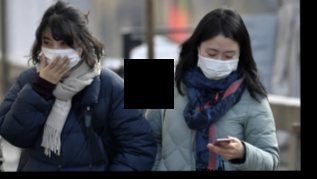with_mask: (39, 34, 81, 72), (196, 44, 239, 78)
